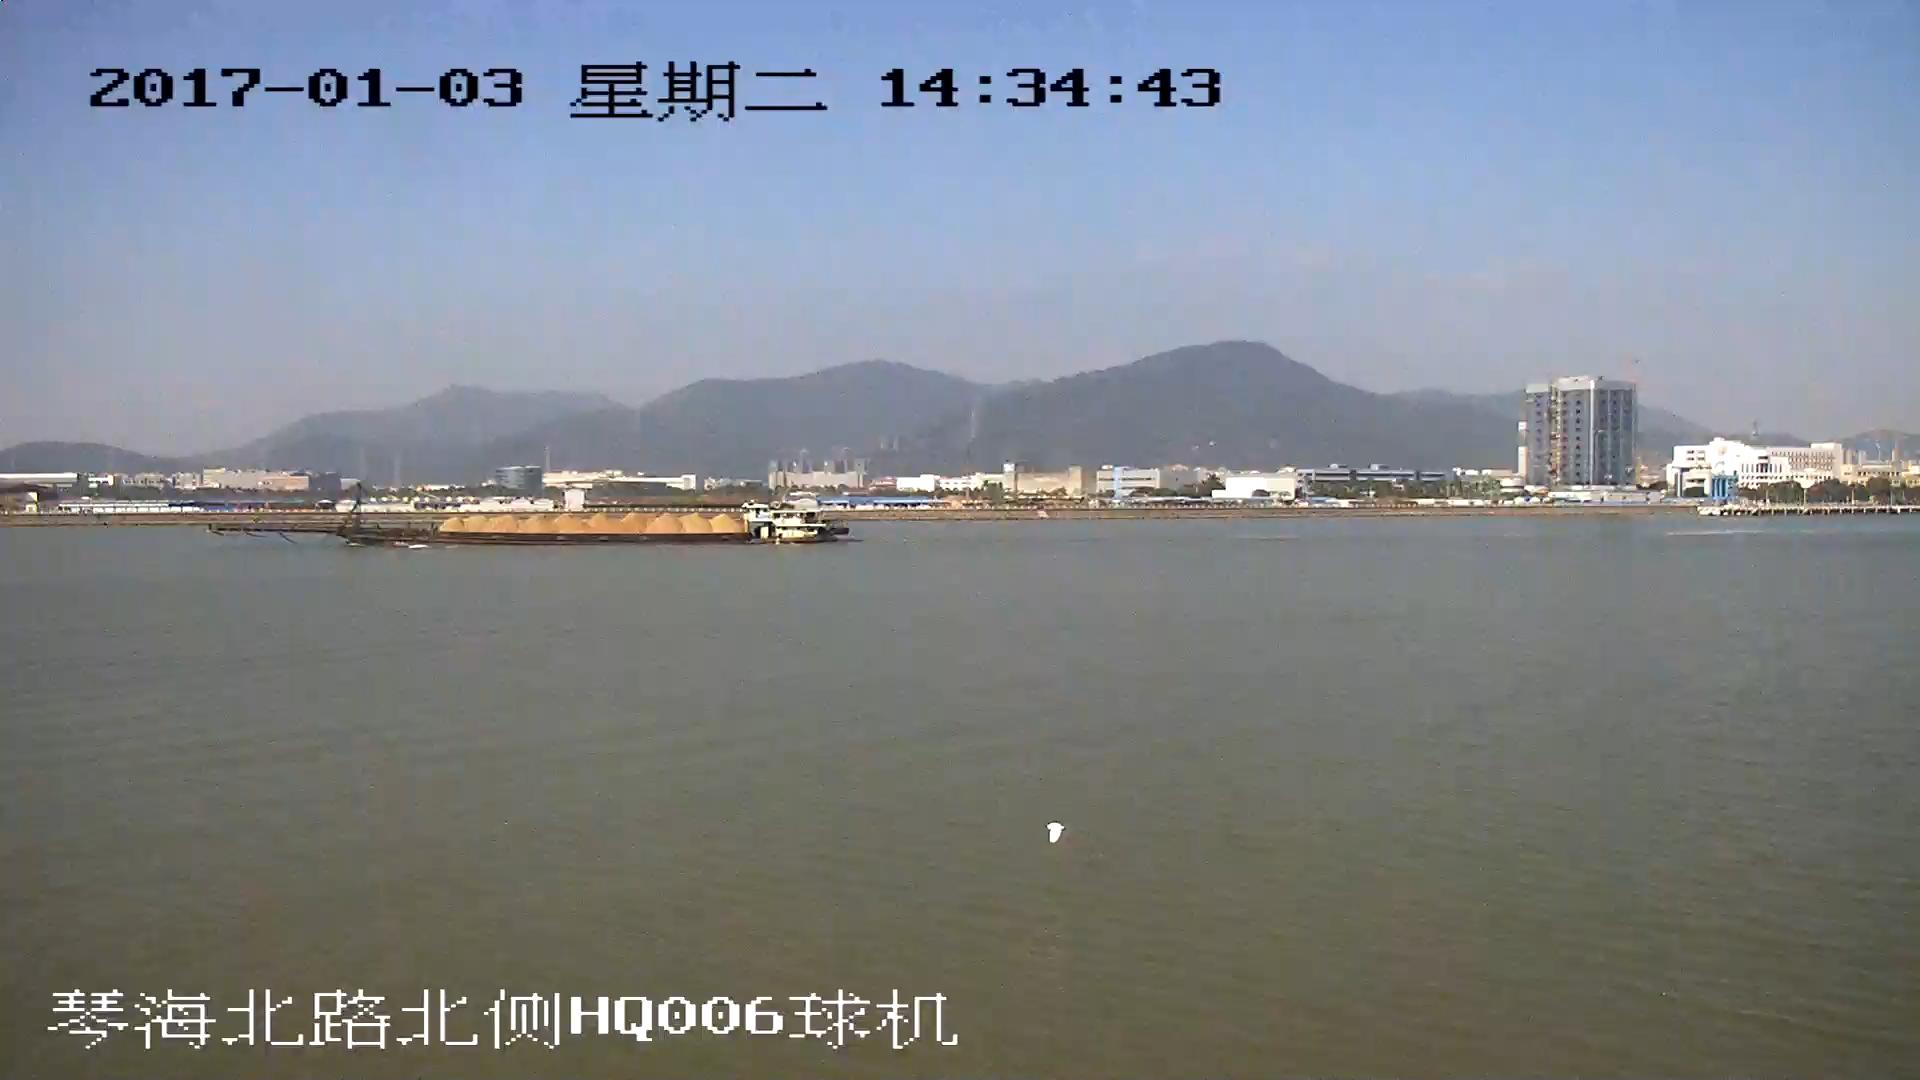ore carrier: (211, 489, 848, 546)
